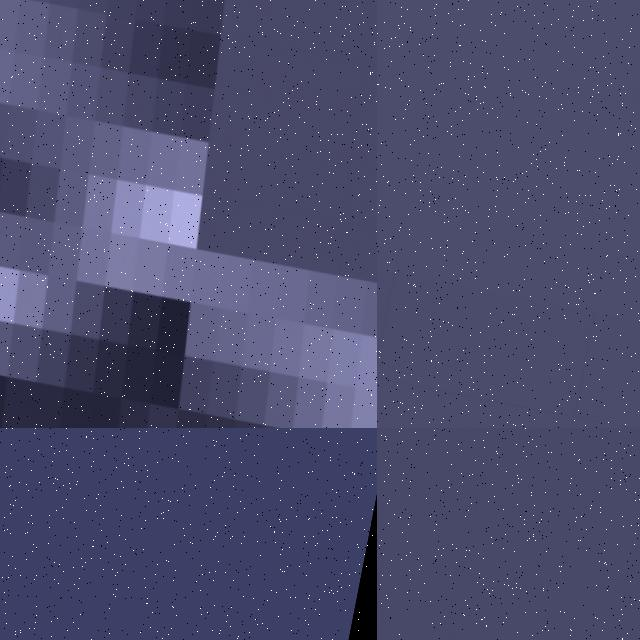drone: (0, 0, 377, 428)
